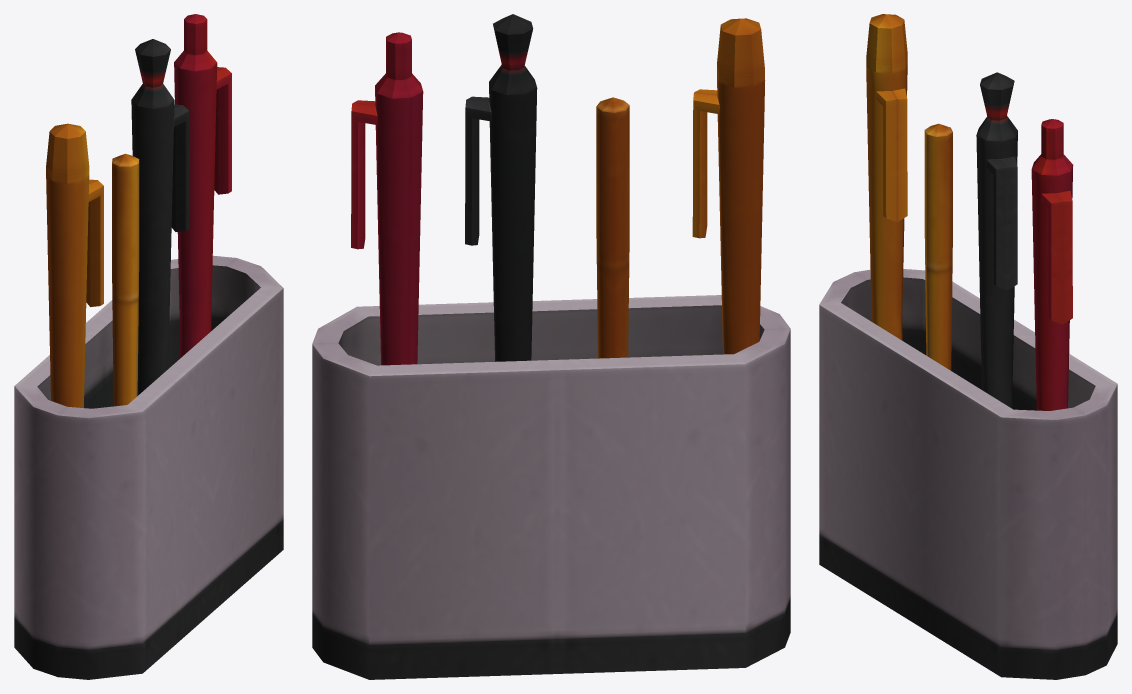
Rendered from XiuXiShi_01_bitong_01.FBX.
3 views of the same model, side by side, from view 1: azimuth 30°, elevation 25°; view 2: azimuth 150°, elevation 25°; view 3: azimuth 270°, elevation 25° (orthographic). The views are drawn at different scales.
Parts seen in each view (by area): view 1: XiuXiShi_bitong; view 2: XiuXiShi_bitong; view 3: XiuXiShi_bitong.
Boxes of the visible parts, x1,y1,x2,y2 form: XiuXiShi_bitong: (14,14,283,679); XiuXiShi_bitong: (312,14,790,679); XiuXiShi_bitong: (819,14,1117,679).
Size of the model in its own units: 71.7 by 118 by 59.28.
